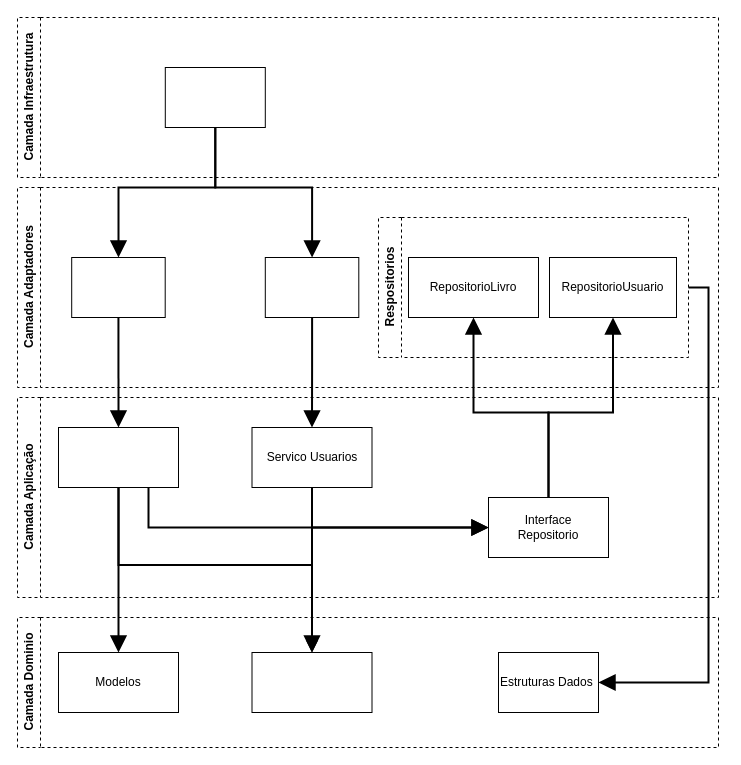
This 741x765 diagram has some shape labels left out. Here are the shapes that lost their labels. From the top down, the centre of each, then its label:
At [214,97]: "ConsoleUI".
At [118,287]: "Controlador Livros".
At [311,287]: "Controlador Usuarios".
At [118,457]: "Servico Livros".
At [311,682]: "Algoritimos".
